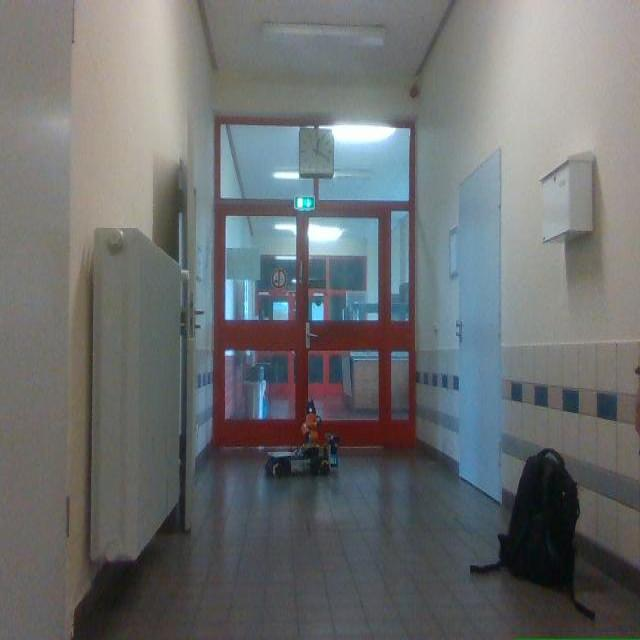objects: (89, 228, 182, 565), (470, 448, 594, 619), (265, 401, 338, 476), (635, 382, 639, 435)
